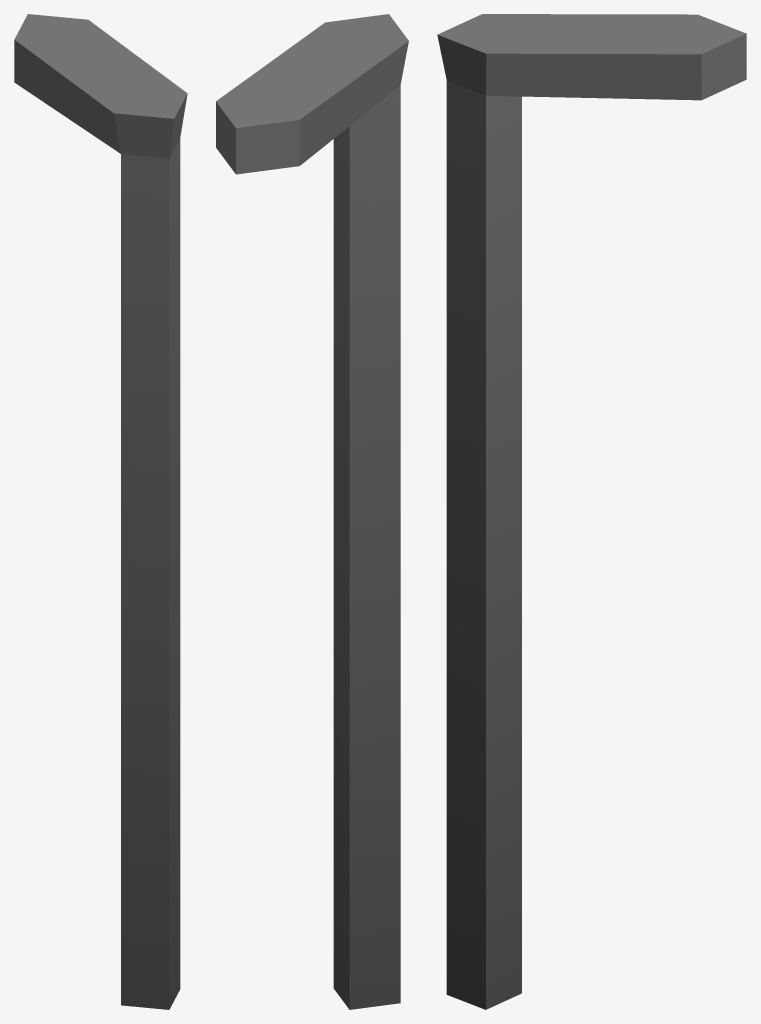
File: LightPostYesLight.fbx
3 renders of one model, left to right at view 1: azimuth 30°, elevation 25°; view 2: azimuth 150°, elevation 25°; view 3: azimuth 270°, elevation 25°, orthographic. The views are drawn at different scales.
Visible parts, largest first — view 1: Cube; view 2: Cube; view 3: Cube.
Part boxes in pixels (x1,y1,x2,y2): Cube: [14, 14, 187, 1009]; Cube: [216, 14, 408, 1009]; Cube: [437, 14, 746, 1009].
Size of the model in its own units: 105 by 1170 by 342.
Materials: 2 (1 with a texture image).
